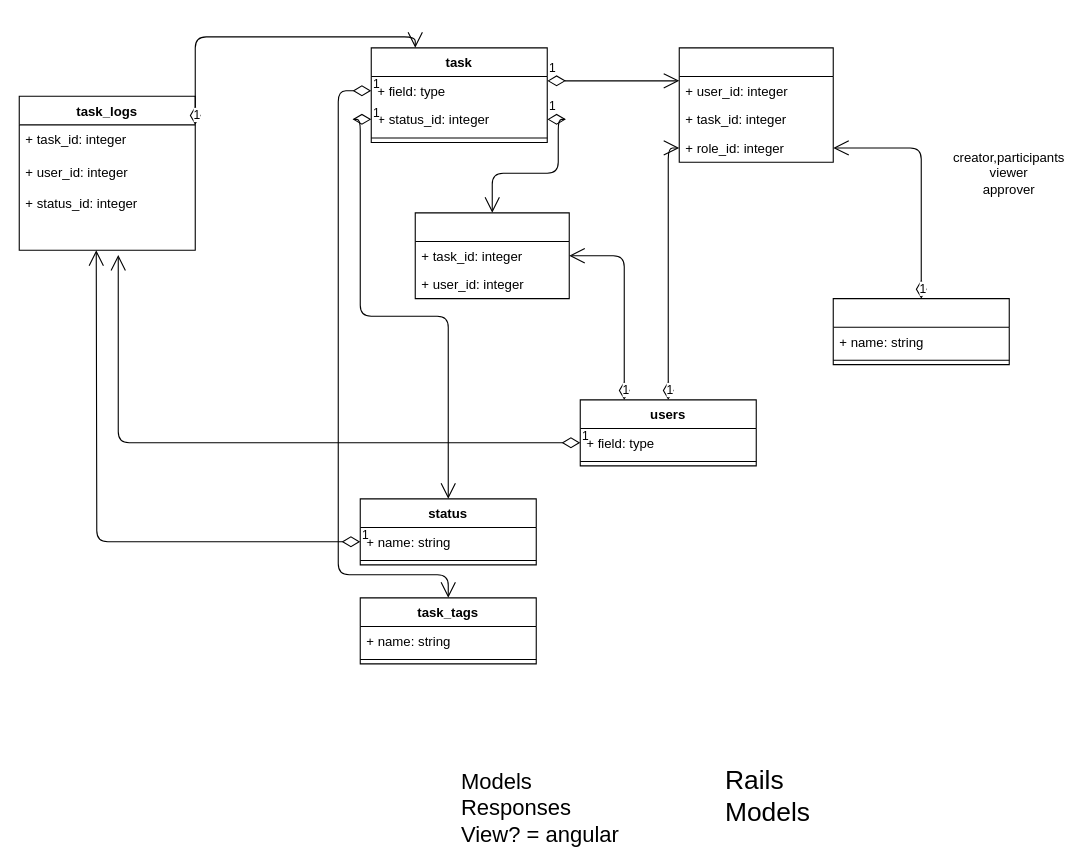
This 1084x866 diagram has some shape labels left out. Each missing label, with the box of its shape:
roles: (832, 298, 1009, 365)
task_comments: (414, 212, 569, 299)
task_participants: (678, 47, 833, 162)
